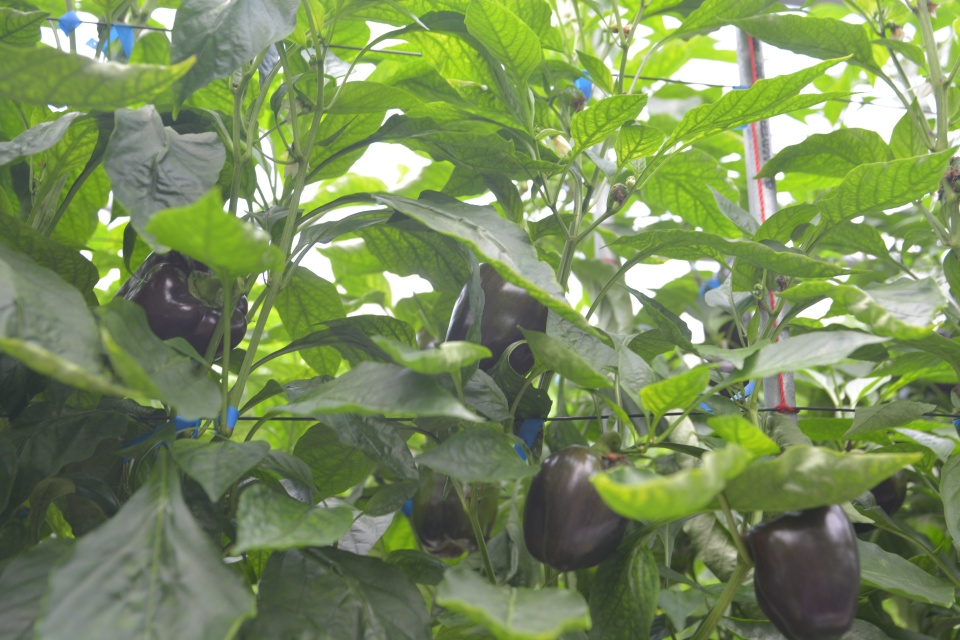flower: (906, 75, 948, 101), (283, 150, 310, 180), (277, 95, 302, 126), (552, 133, 572, 157), (889, 26, 914, 43)
fruit: (741, 503, 862, 640), (107, 250, 250, 365), (520, 443, 630, 572), (443, 263, 549, 380), (411, 460, 500, 563), (698, 256, 758, 349), (895, 329, 960, 400), (851, 467, 907, 537), (703, 353, 750, 399)
immature: (560, 84, 586, 113), (608, 182, 628, 206)
pedicle: (188, 269, 224, 308), (593, 443, 612, 457)
